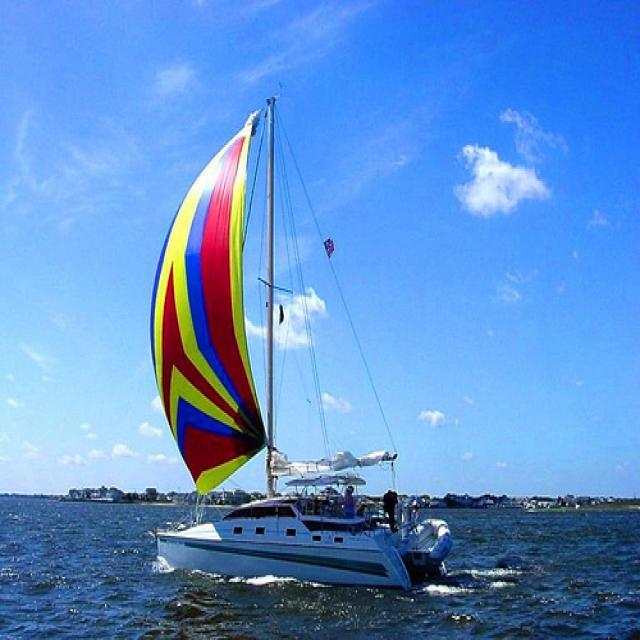Ship: (109, 104, 463, 588)
